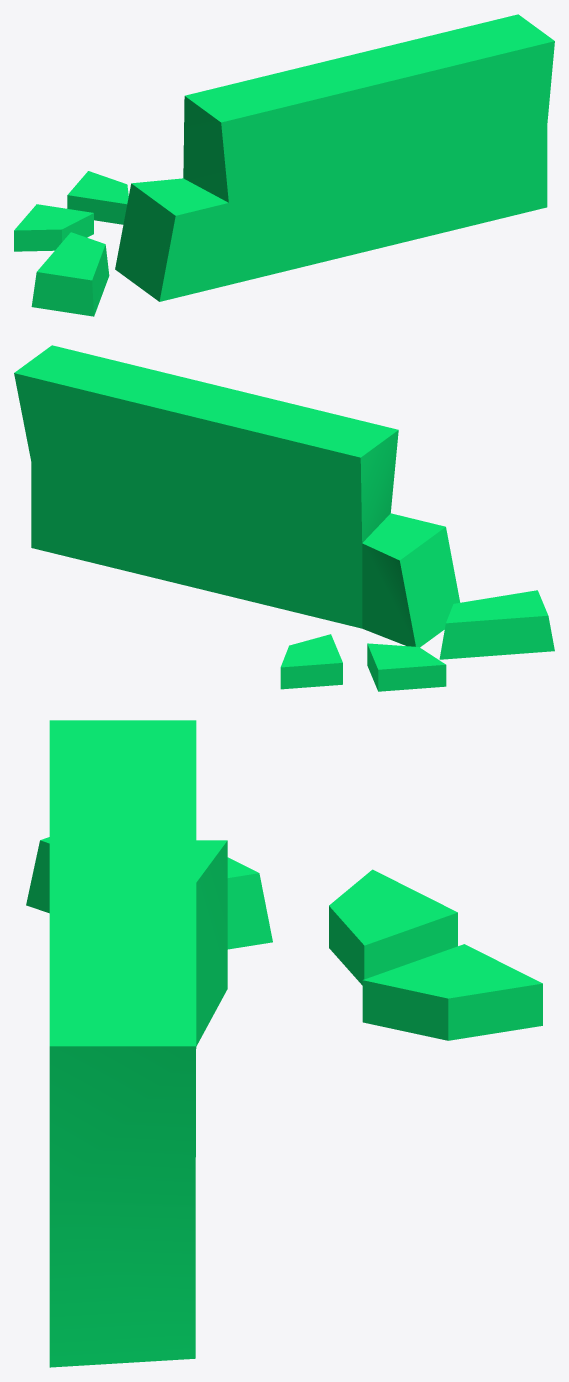
File: Ruins6_Collision.FBX
The picture shows the model from 3 angles, top to bottom: view 1: azimuth 30°, elevation 25°; view 2: azimuth 150°, elevation 25°; view 3: azimuth 270°, elevation 25°; orthographic projection. The views are drawn at different scales.
Parts seen in each view (by area): view 1: Ruins6_Collision; view 2: Ruins6_Collision; view 3: Ruins6_Collision.
Boxes of the visible parts, bbox=[...] form: Ruins6_Collision: bbox=[14, 14, 554, 316]; Ruins6_Collision: bbox=[14, 345, 554, 691]; Ruins6_Collision: bbox=[26, 720, 542, 1367].
Bounding box in the file's own units: 10.44 × 3.26 × 4.64.
